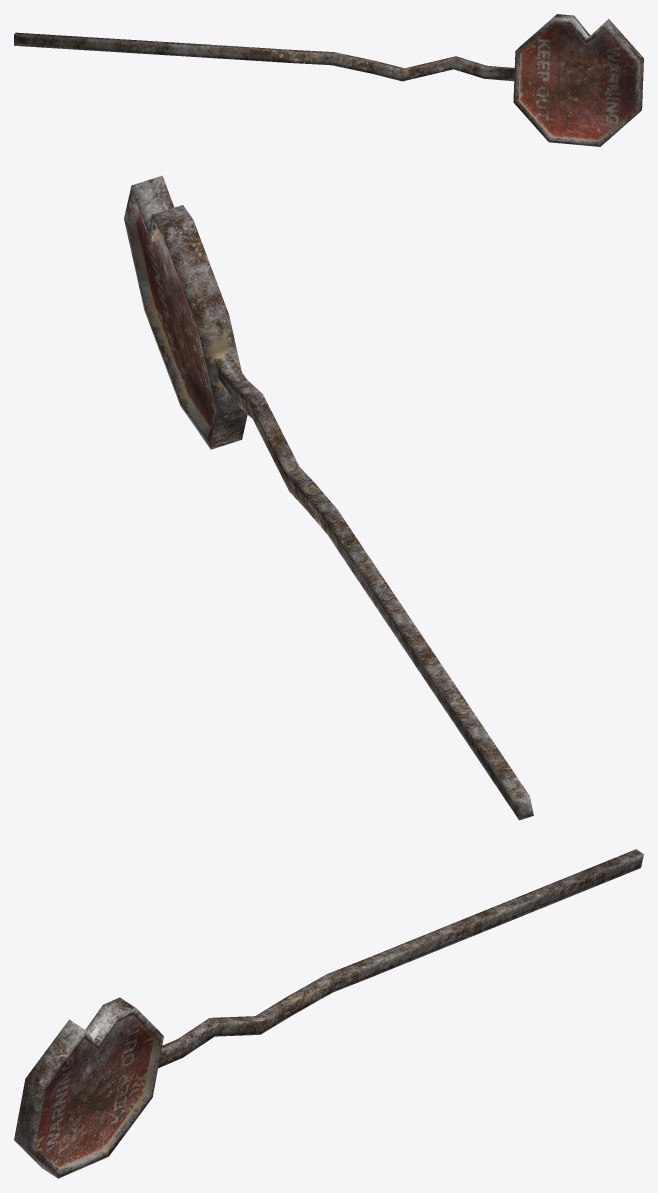
Rendered from Anim_idle_senyal_objetos.0025.obj.
The picture shows the model from 3 angles, top to bottom: view 1: azimuth 30°, elevation 25°; view 2: azimuth 150°, elevation 25°; view 3: azimuth 270°, elevation 25°; orthographic projection. The views are drawn at different scales.
Size of the model in its own units: 9.38 by 2.52 by 8.81.
